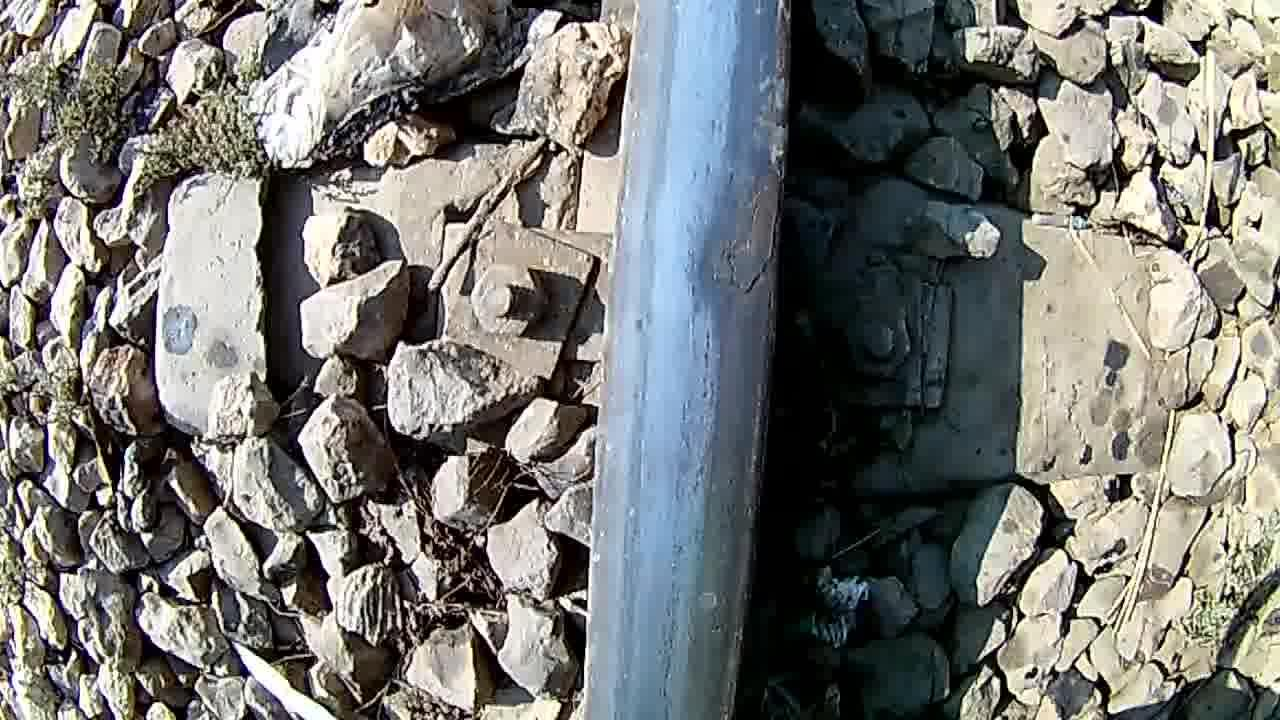crack: (636, 150, 790, 314)
